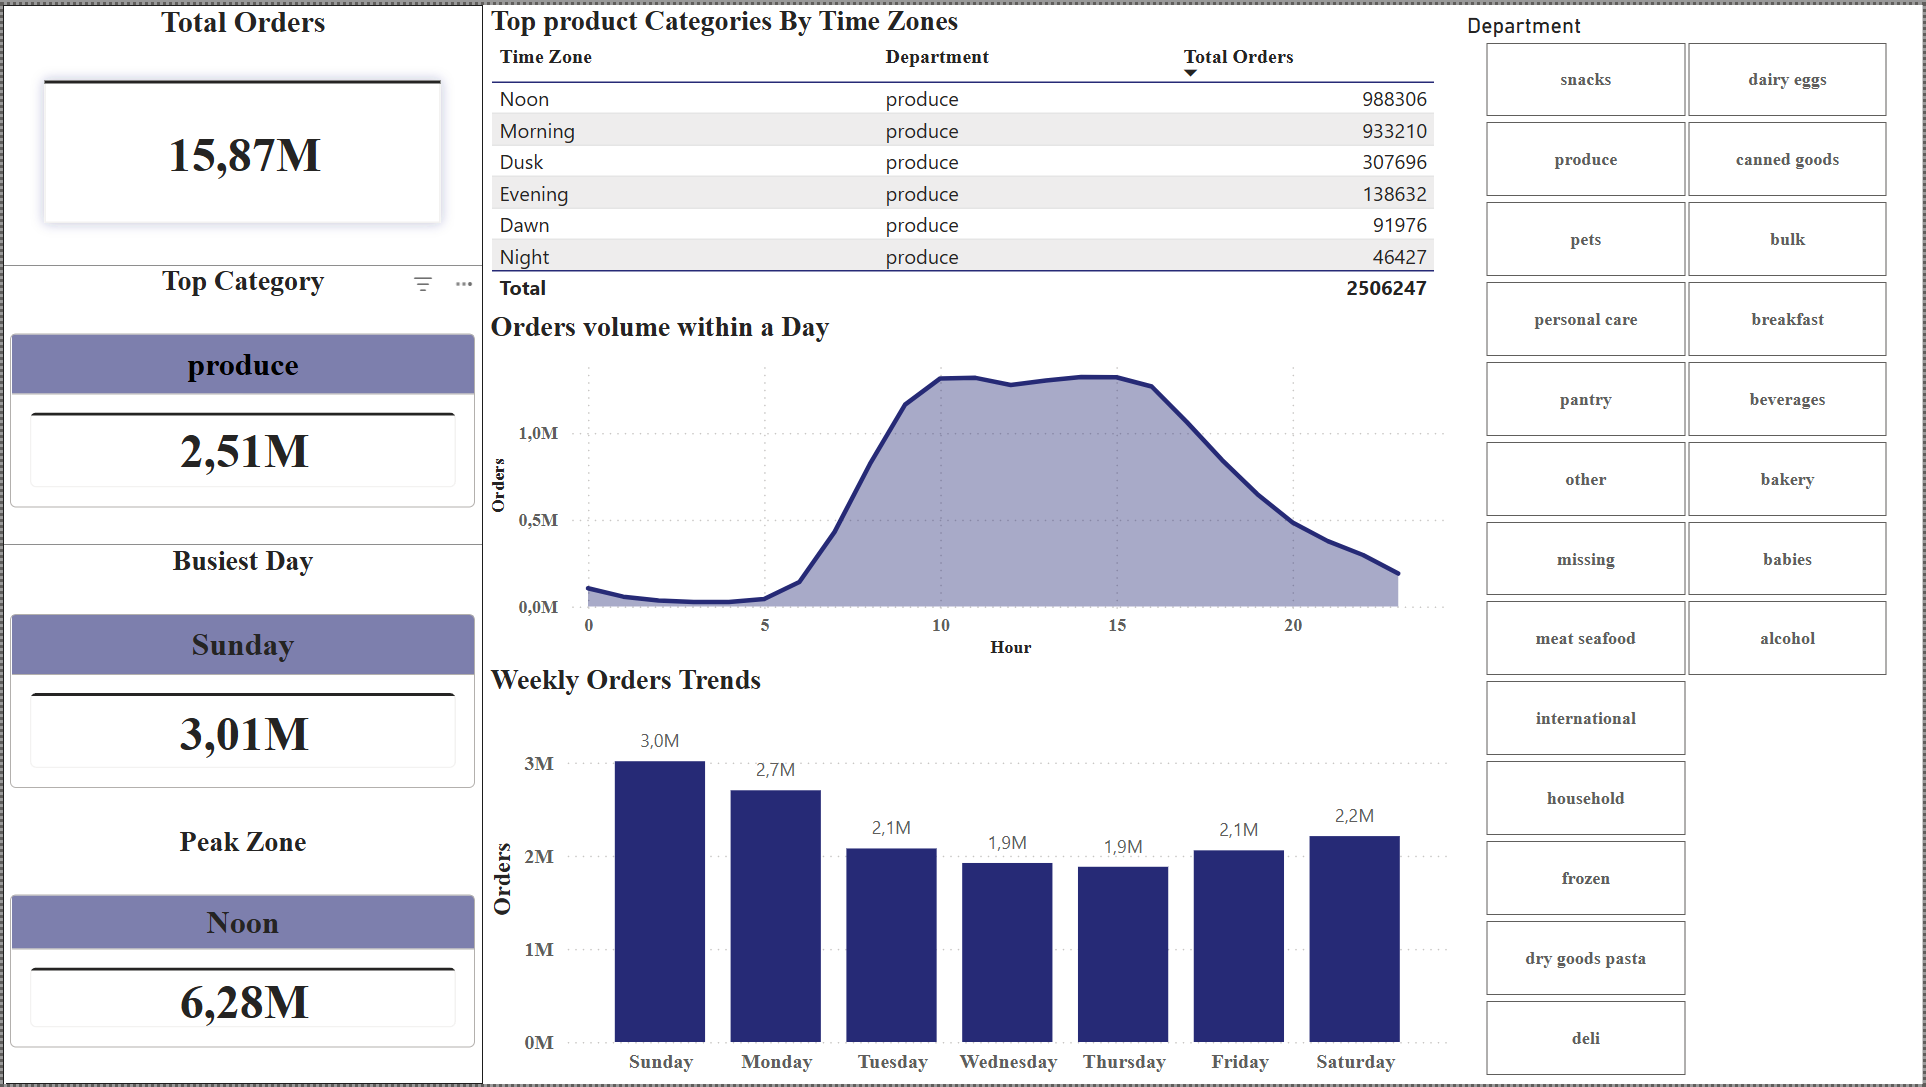

This screenshot's page, from the dashboard's own definition file:
{"tool":"powerbi","page":{"name":"Page 1","canvas":[1280,720],"ordinal":0},"visuals":[{"type":"cardVisual","title":"Top Category","fields":{"Data":["Sum(instacart_cleaned_final_v.sum_unique_orders)"],"Rows":["instacart_cleaned_final_v.department"]},"box":[0,172.7,319.9,187.1],"z":0,"group":"g1"},{"type":"areaChart","title":"Orders volume within a Day","fields":{"Category":["instacart_cleaned_final_v.order_hour_of_day"],"Y":["Sum(instacart_cleaned_final_v.sum_unique_orders)"]},"box":[320,204,649,235],"z":0},{"type":"cardVisual","title":"Busiest Day","fields":{"Rows":["instacart_cleaned_final_v.day"],"Data":["Sum(instacart_cleaned_final_v.sum_unique_orders)"]},"box":[0,360.1,320.1,187.2],"z":1000,"group":"g1"},{"type":"clusteredColumnChart","title":"Weekly Orders Trends","fields":{"Category":["instacart_cleaned_final_v.day"],"Y":["Sum(instacart_cleaned_final_v.sum_unique_orders)"]},"box":[320.1,438.6,648.7,281.5],"z":1000},{"type":"cardVisual","title":"Total Orders","fields":{"Data":["Sum(instacart_cleaned_final_v.sum_unique_orders)"]},"box":[0,0,320.1,172.8],"z":2000,"group":"g1"},{"type":"tableEx","title":"Top product Categories By Time Zones","fields":{"Values":["instacart_cleaned_final_v.time_zone","instacart_cleaned_final_v.department","Sum(instacart_cleaned_final_v.sum_unique_orders)"]},"box":[320,0,649,204],"z":2000},{"type":"slicer","fields":{"Values":["instacart_cleaned_final_v.department"]},"box":[963,0,317,720],"z":3000},{"type":"cardVisual","title":"Peak Zone","fields":{"Rows":["instacart_cleaned_final_v.time_zone"],"Data":["Sum(instacart_cleaned_final_v.sum_unique_orders)"]},"box":[0,547.3,320.1,172.8],"z":3000,"group":"g1"},{"type":"group","id":"g1","title":"Group 1","box":[0,0,320.1,720.1],"z":4000}]}

Visuals, with their boxes in screenshot pixels (x1, y1, x2, y2), scaled from the page's 1280x720 canvas onto the 1926x1087 screenshot:
"Top Category" cardVisual: crop(0, 261, 481, 543)
"Orders volume within a Day" areaChart: crop(482, 308, 1458, 663)
"Busiest Day" cardVisual: crop(0, 544, 482, 826)
"Weekly Orders Trends" clusteredColumnChart: crop(482, 662, 1458, 1086)
"Total Orders" cardVisual: crop(0, 0, 482, 261)
"Top product Categories By Time Zones" tableEx: crop(482, 0, 1458, 308)
slicer - instacart_cleaned_final_v.department: crop(1449, 0, 1925, 1086)
"Peak Zone" cardVisual: crop(0, 826, 482, 1086)
"Group 1" group: crop(0, 0, 482, 1086)
